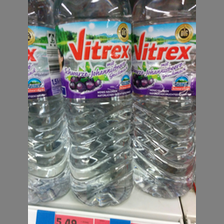water: (53, 1, 133, 208), (132, 2, 195, 198), (28, 1, 69, 207)
